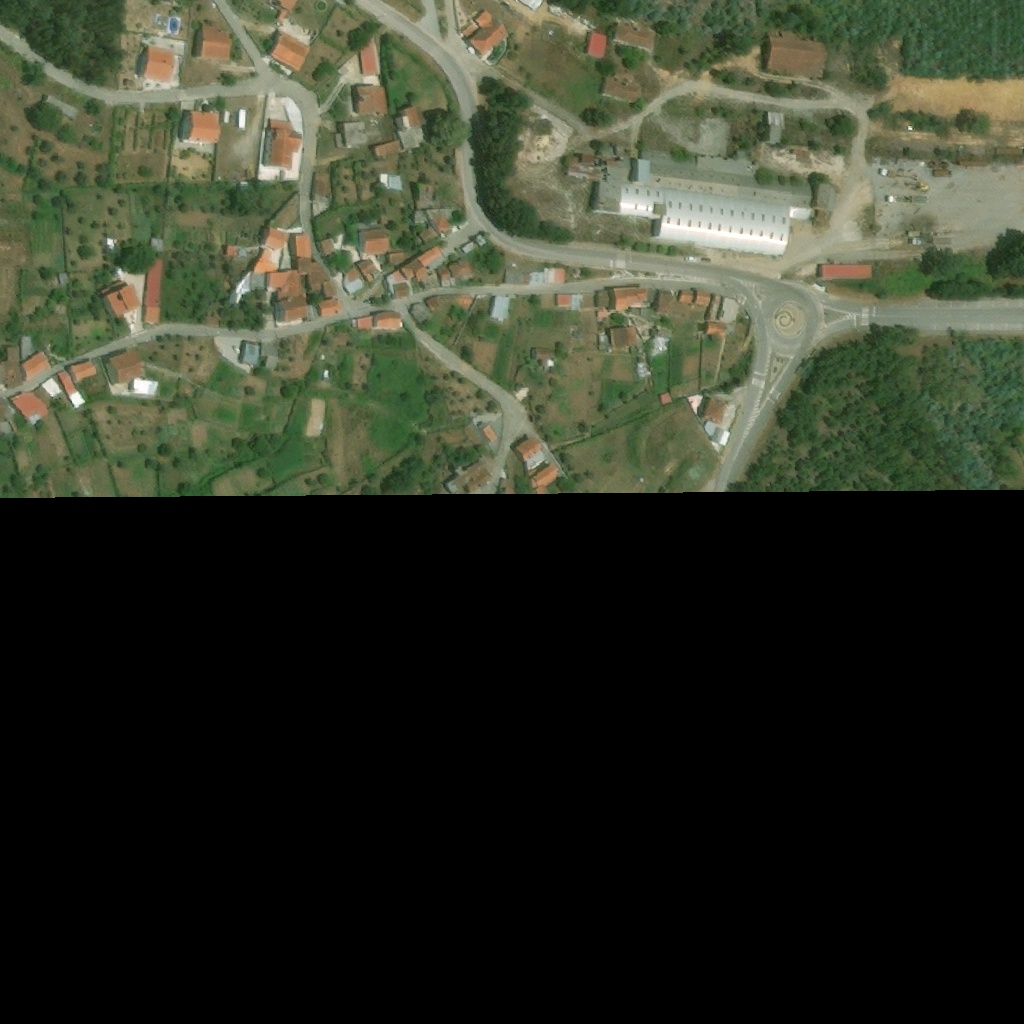0 no-damage: (562, 148, 813, 256), (766, 35, 823, 77), (261, 119, 302, 171), (468, 9, 508, 56), (653, 291, 703, 326), (104, 347, 149, 385), (268, 32, 311, 71), (508, 433, 546, 475), (142, 258, 165, 324), (225, 268, 267, 304), (179, 110, 222, 145), (104, 279, 142, 318), (402, 244, 443, 280), (196, 22, 232, 60), (396, 106, 425, 152), (613, 19, 655, 50), (9, 392, 49, 424), (237, 246, 290, 270), (443, 460, 491, 486), (143, 45, 175, 83), (266, 269, 306, 298), (600, 77, 644, 103), (57, 371, 86, 408), (351, 309, 401, 330), (299, 261, 330, 294), (20, 351, 51, 382), (505, 268, 565, 284), (274, 298, 309, 325), (698, 419, 730, 448), (333, 121, 367, 148), (612, 286, 649, 309), (380, 269, 411, 296), (415, 206, 459, 225), (813, 265, 870, 279), (356, 86, 383, 115), (359, 36, 379, 75), (0, 346, 19, 386), (259, 229, 292, 252), (425, 294, 472, 310), (358, 230, 390, 253), (607, 327, 641, 348), (309, 166, 331, 198), (765, 111, 785, 143), (71, 360, 96, 383), (486, 295, 509, 320), (344, 264, 363, 294), (371, 140, 399, 160), (291, 234, 311, 259), (703, 397, 723, 422), (319, 299, 342, 320), (358, 260, 381, 281), (31, 386, 52, 409), (239, 340, 259, 364), (717, 299, 737, 323), (530, 467, 556, 485), (554, 293, 583, 309), (814, 182, 830, 210), (41, 378, 63, 398), (429, 214, 451, 234), (416, 184, 434, 208), (134, 379, 159, 395), (692, 289, 710, 308), (418, 225, 438, 242), (704, 323, 727, 337), (380, 174, 401, 189), (320, 237, 336, 256), (480, 425, 496, 443), (21, 337, 33, 360), (461, 22, 476, 38), (234, 110, 246, 129), (530, 348, 555, 357), (594, 291, 608, 307), (409, 302, 424, 316), (459, 241, 475, 254), (261, 345, 278, 357), (368, 215, 388, 225), (437, 265, 450, 280), (678, 291, 691, 304), (266, 355, 278, 369), (221, 245, 236, 256), (659, 394, 672, 406), (151, 238, 163, 251), (474, 234, 487, 246), (277, 9, 288, 21), (58, 273, 69, 285), (223, 110, 231, 125), (181, 100, 194, 109), (597, 311, 610, 319)
4 un-classified: (279, 0, 298, 14), (518, 0, 542, 11), (0, 398, 7, 432)
